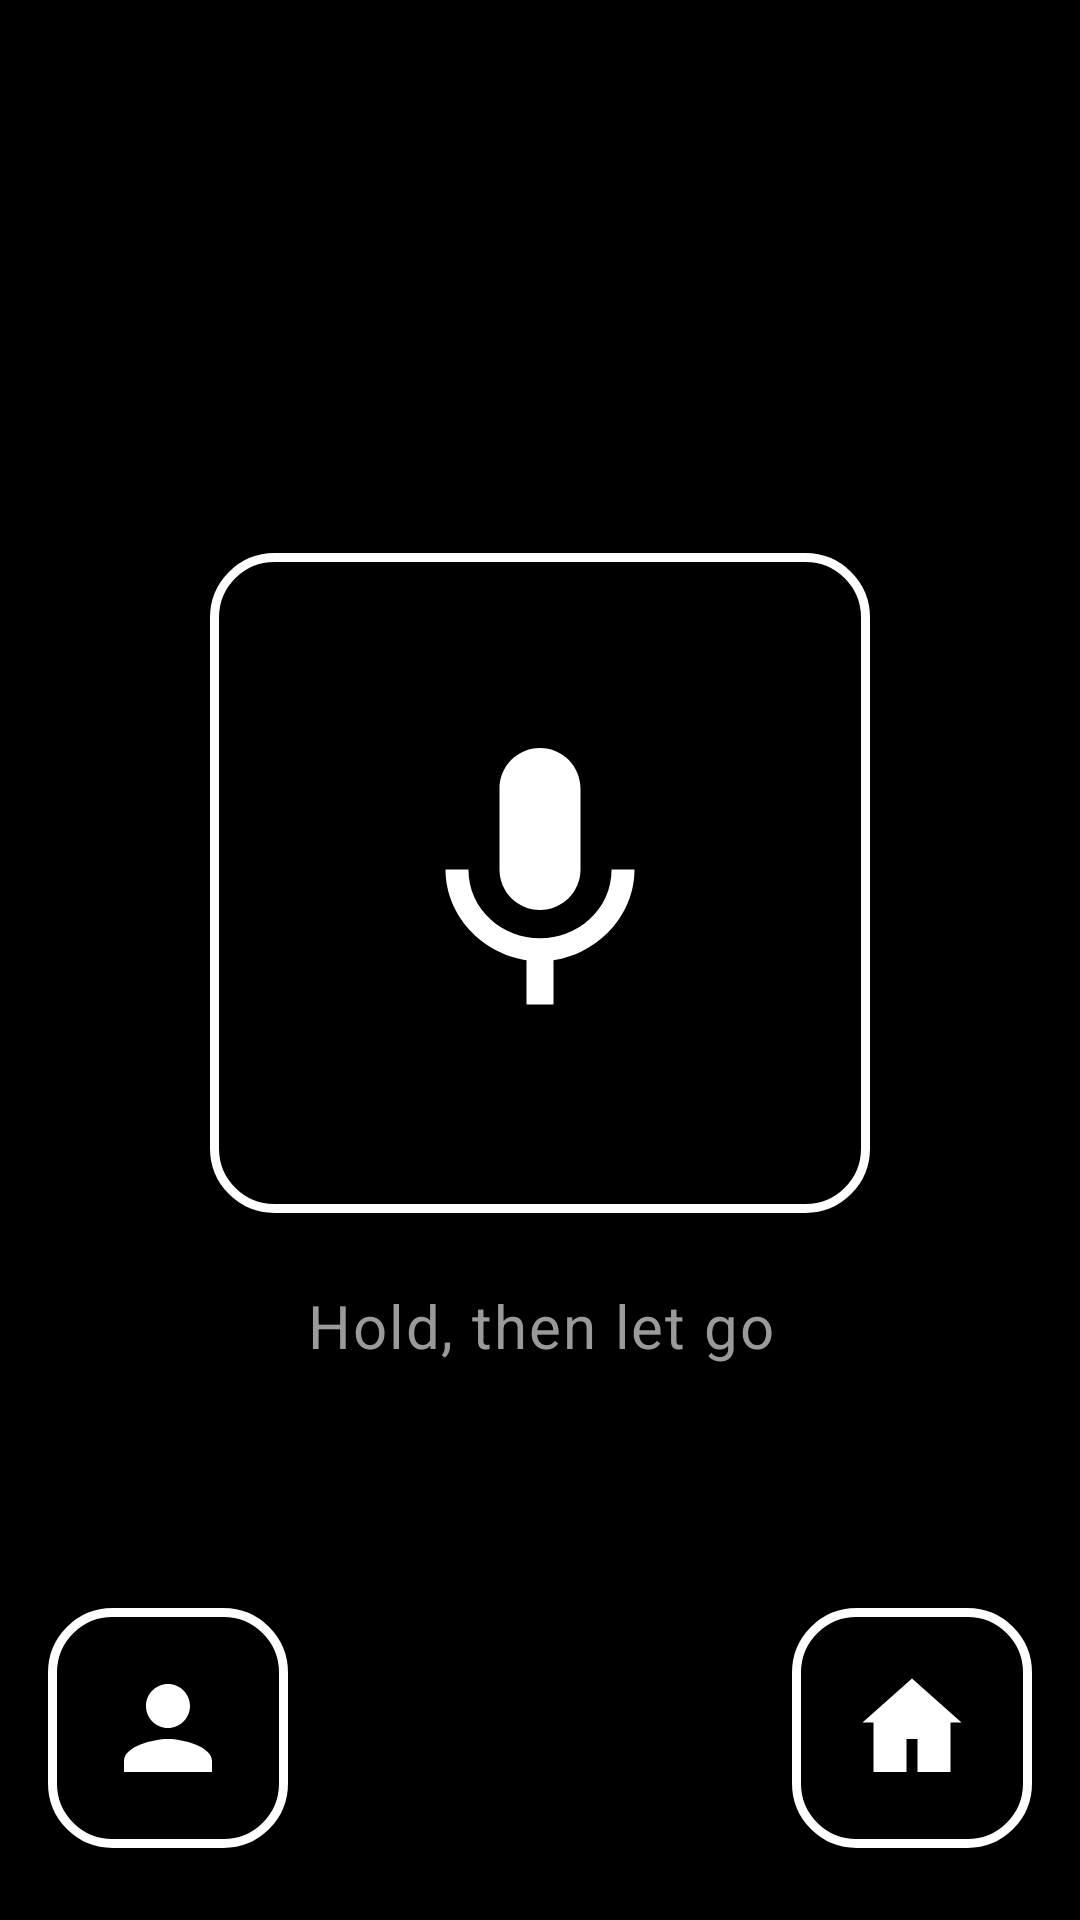

Where icons sit on this 1080×1920 app screen, as (x1, y1, x2, y2):
Home: (792, 1608, 1032, 1848)
